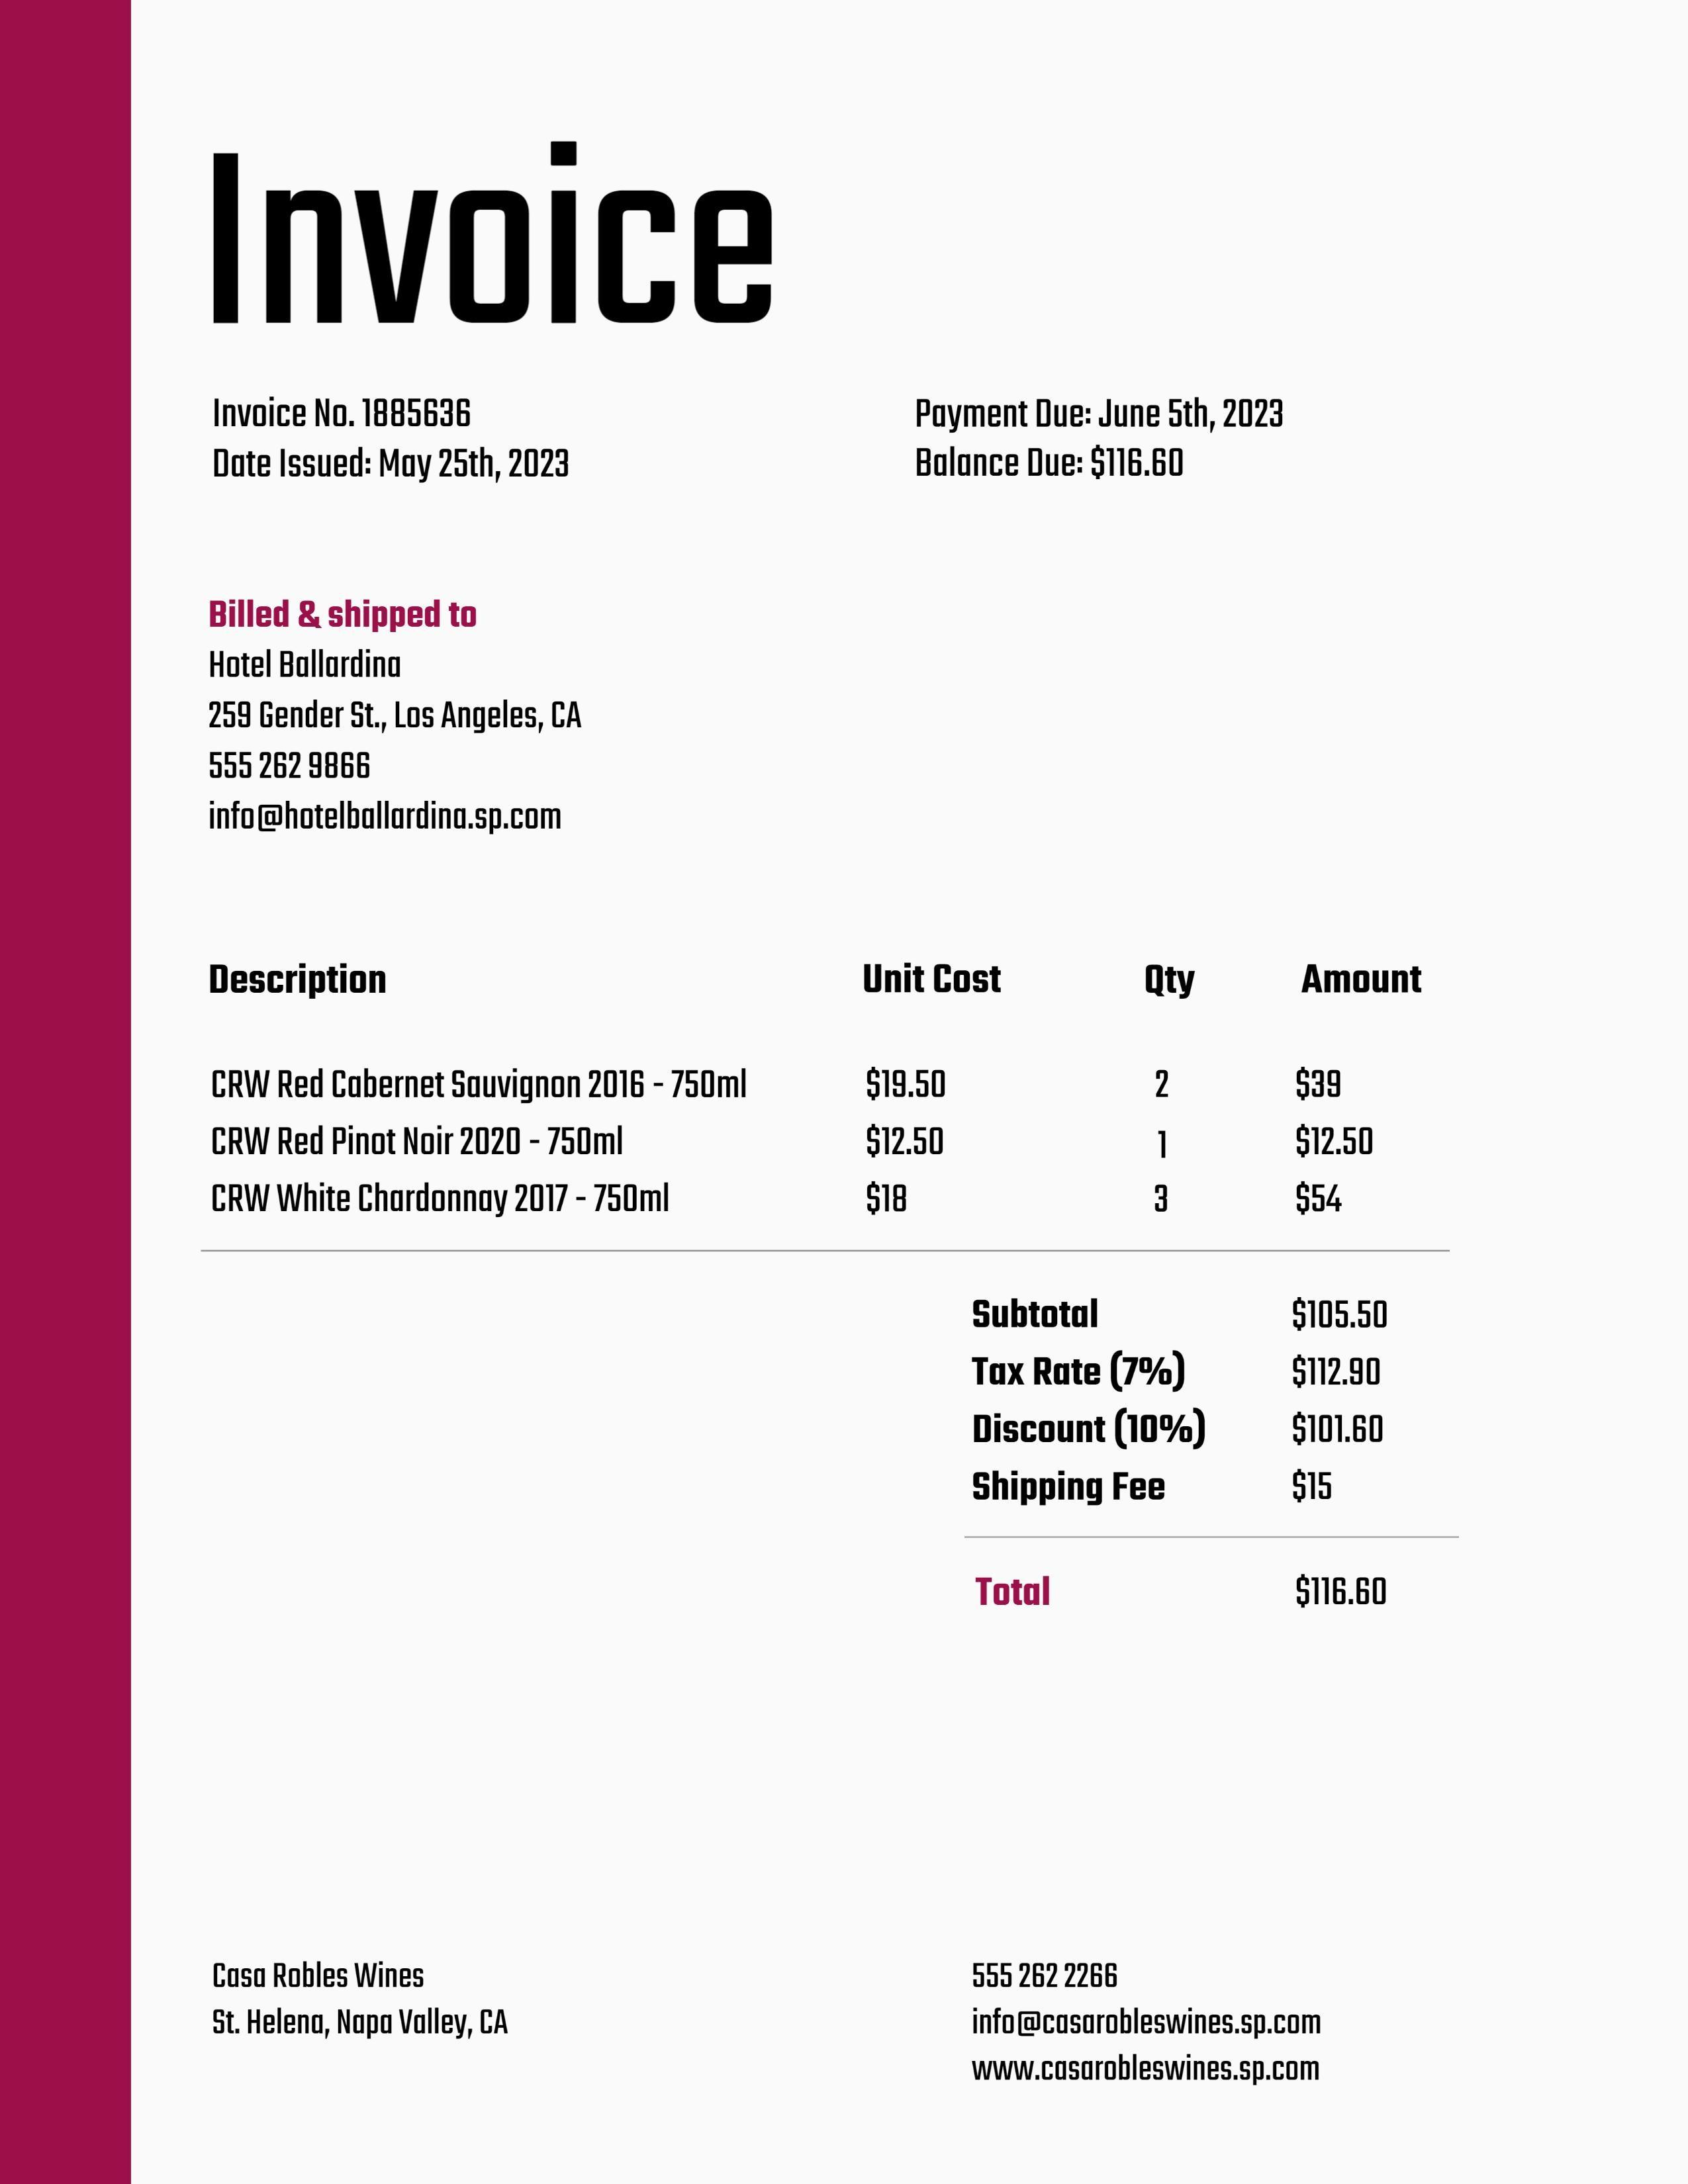ROI: (188, 959, 1463, 1252), (966, 1278, 1417, 1622), (213, 1952, 1353, 2085), (206, 394, 1330, 489), (191, 585, 592, 840), (906, 390, 1287, 480)
